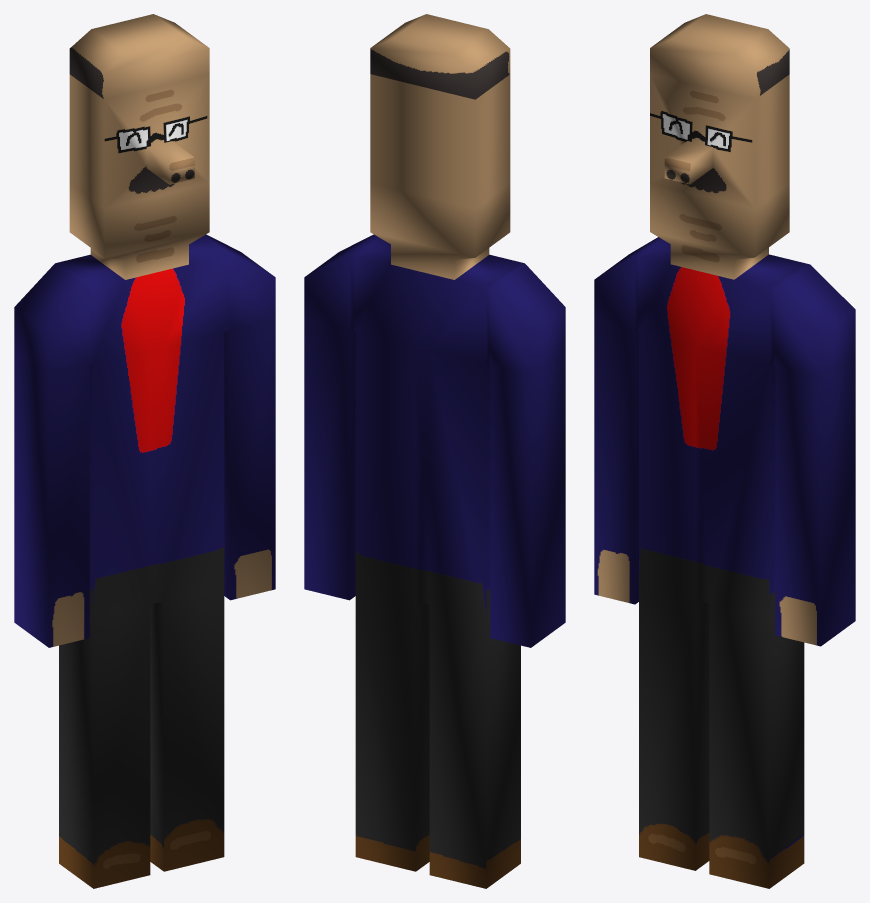
Rendered from BusinessMan.fbx.
3 views of the same model, side by side, from view 1: azimuth 30°, elevation 25°; view 2: azimuth 150°, elevation 25°; view 3: azimuth 330°, elevation 25° (orthographic).
Parts seen in each view (by area): view 1: Cube; view 2: Cube; view 3: Cube.
Part boxes in pixels (bbox=[...]): Cube: bbox=[14, 14, 275, 888]; Cube: bbox=[304, 14, 565, 888]; Cube: bbox=[594, 14, 855, 888].
Bounding box in the file's own units: 2.45 × 8.54 × 1.12.
